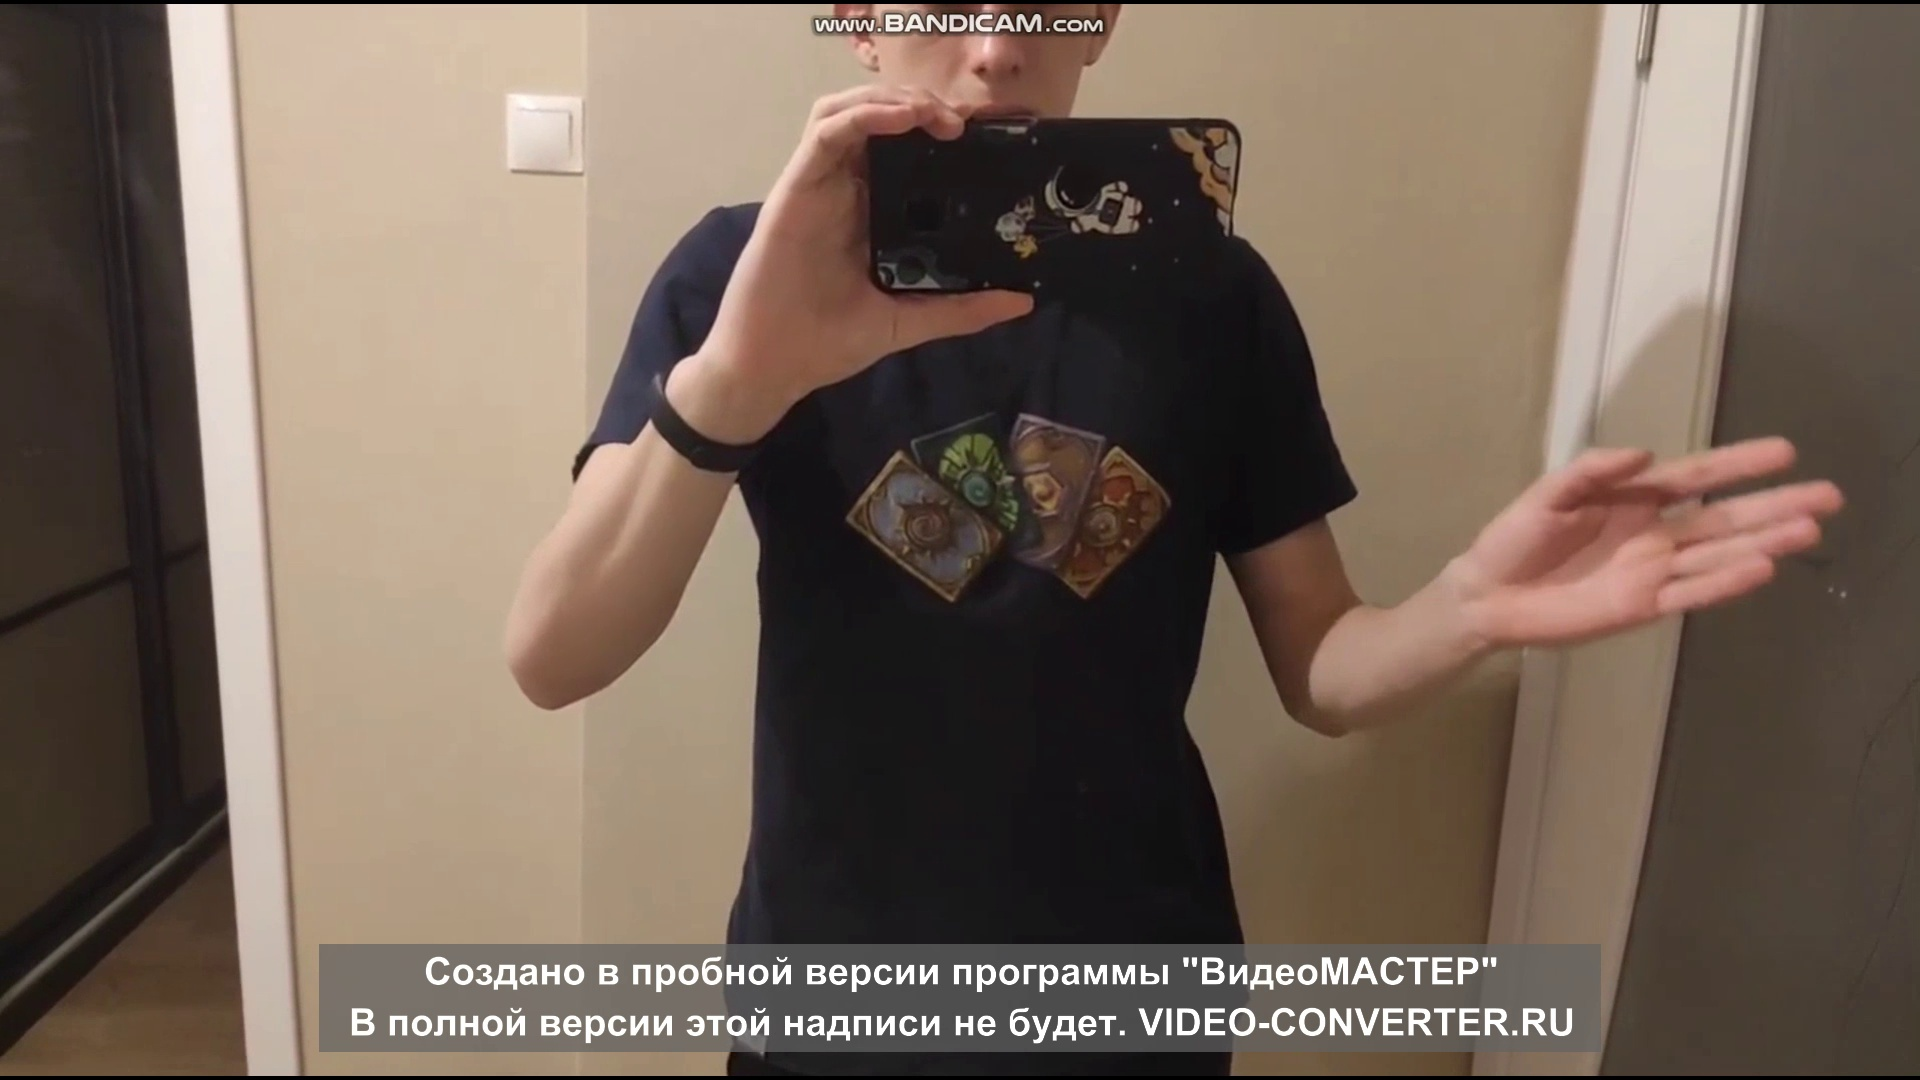Ладонь: (1481, 431, 1842, 646)
